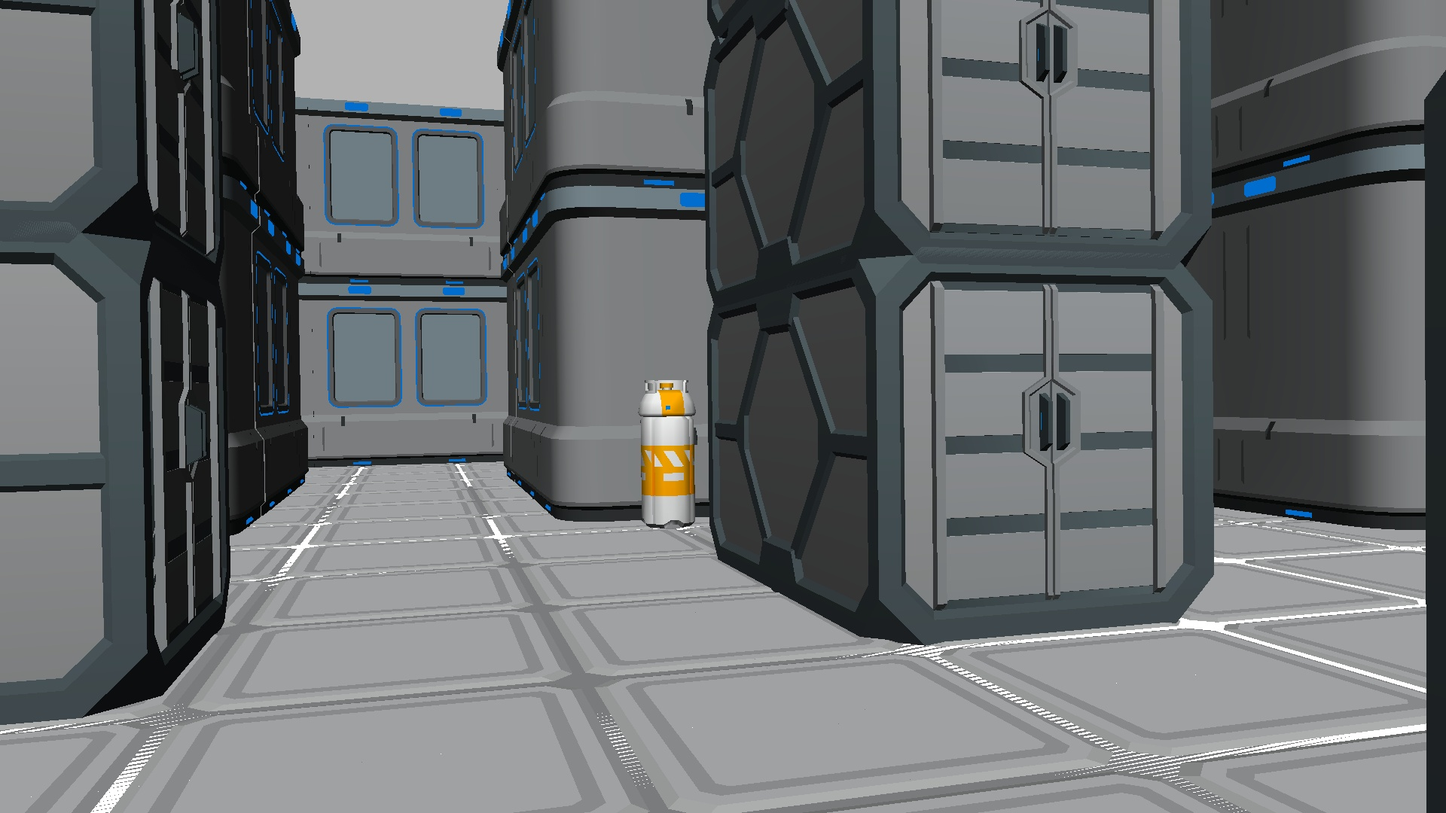yellow barrel: (638, 379, 698, 529)
